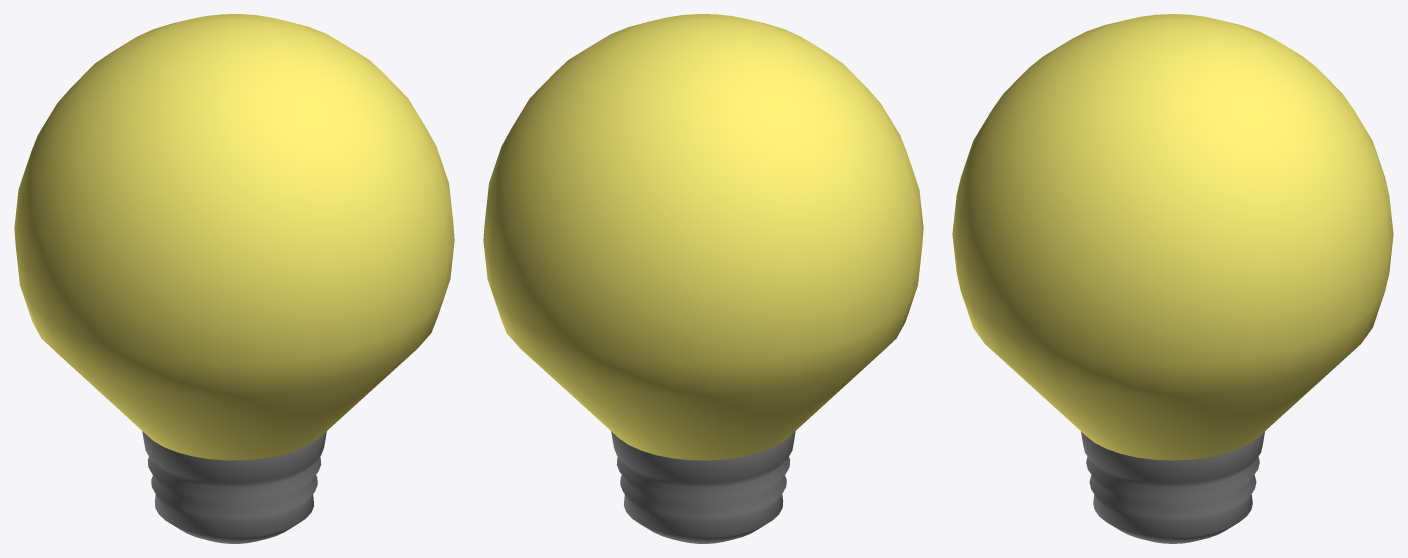
Rendered from lamp_model.fbx.
3 views of the same model, side by side, from view 1: azimuth 30°, elevation 25°; view 2: azimuth 150°, elevation 25°; view 3: azimuth 270°, elevation 25° (orthographic).
Parts seen in each view (by area): view 1: top, bottom; view 2: top, bottom; view 3: top, bottom.
Part boxes in pixels (x1=…): top: x1=14, y1=14, x2=454, y2=460; bottom: x1=142, y1=431, x2=326, y2=543; top: x1=483, y1=14, x2=923, y2=460; bottom: x1=611, y1=431, x2=795, y2=543; top: x1=952, y1=14, x2=1393, y2=460; bottom: x1=1081, y1=431, x2=1264, y2=543.
Size of the model in its own units: 200 by 250 by 200.
